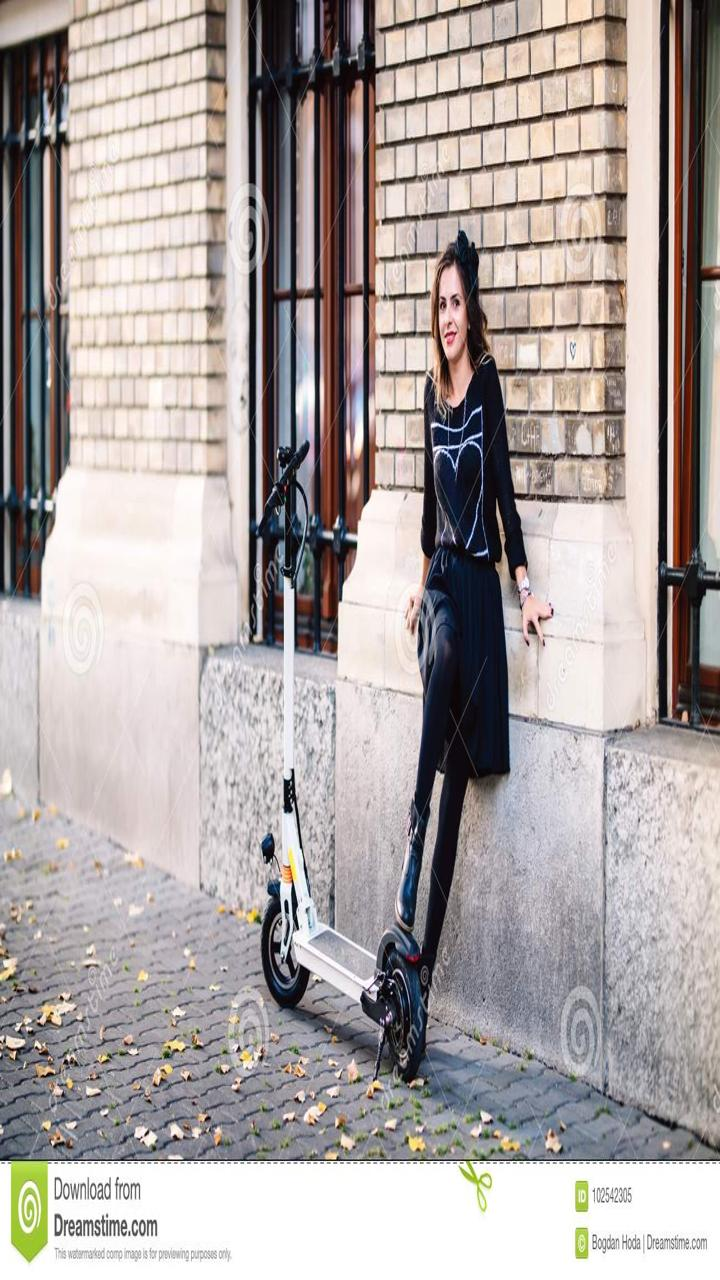cyclist: (407, 195, 570, 1061)
scooter: (202, 431, 428, 1061)
